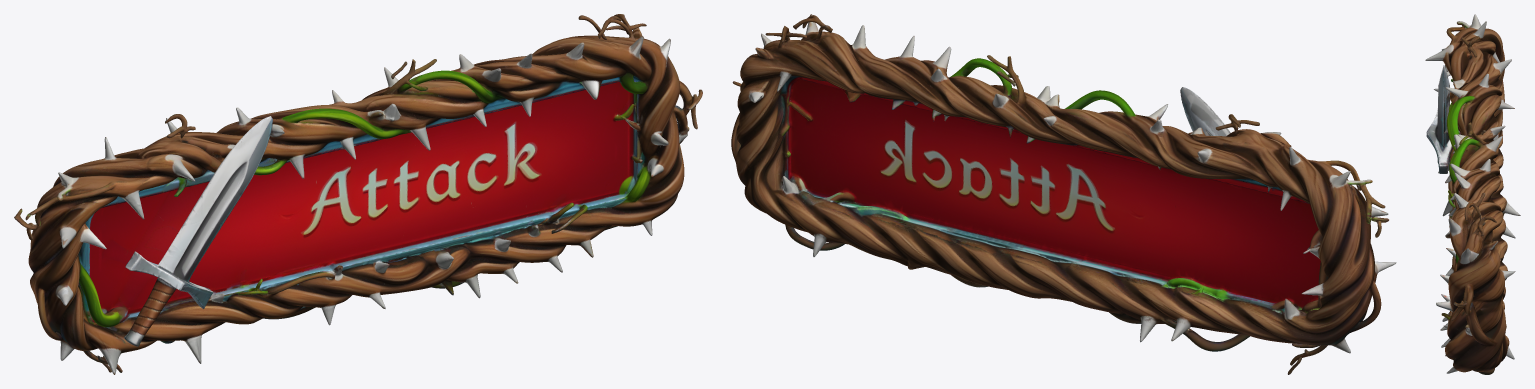
The model's file is attack-hd.glb.
The picture shows the model from 3 angles, left to right: view 1: azimuth 30°, elevation 25°; view 2: azimuth 150°, elevation 25°; view 3: azimuth 270°, elevation 25°; orthographic projection. The views are drawn at different scales.
Bounding box in the file's own units: 1.9 × 0.6629 × 0.3017.
1 material, 1 textured.
